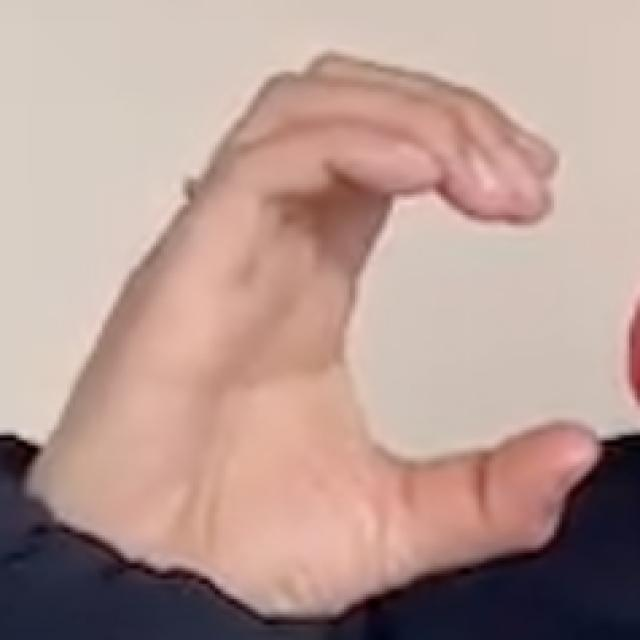C: (36, 40, 612, 598)
